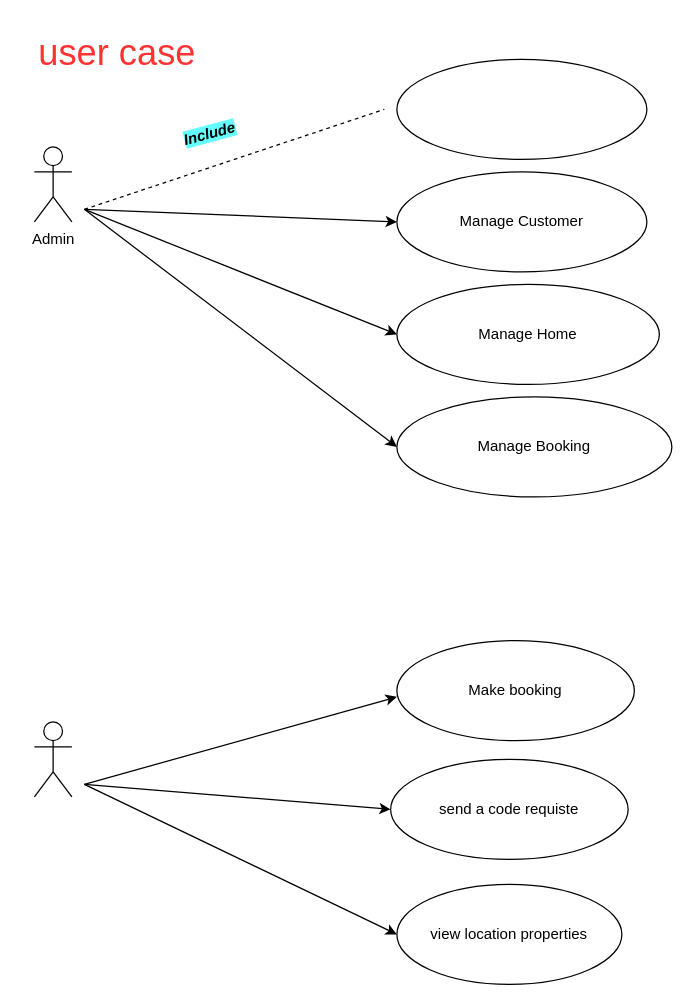
Some shapes in this 694 by 1006 pixel diagram are drawn without their labels. The shapes that lost their labels are listed below. From the top down, each one's box as (x1, y1, x2, y2) in pixels, then its label:
(396, 58, 647, 159): Login
(33, 721, 72, 797): User
